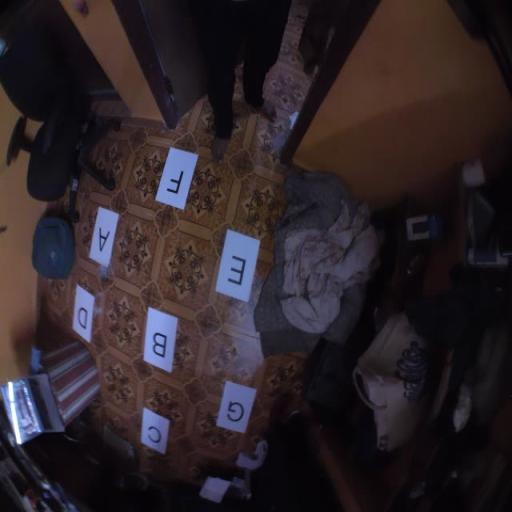A: (88, 206, 119, 267)
B: (142, 307, 178, 372)
C: (140, 408, 170, 454)
D: (72, 285, 94, 344)
E: (214, 229, 260, 303)
F: (156, 147, 198, 210)
G: (215, 381, 257, 434)
